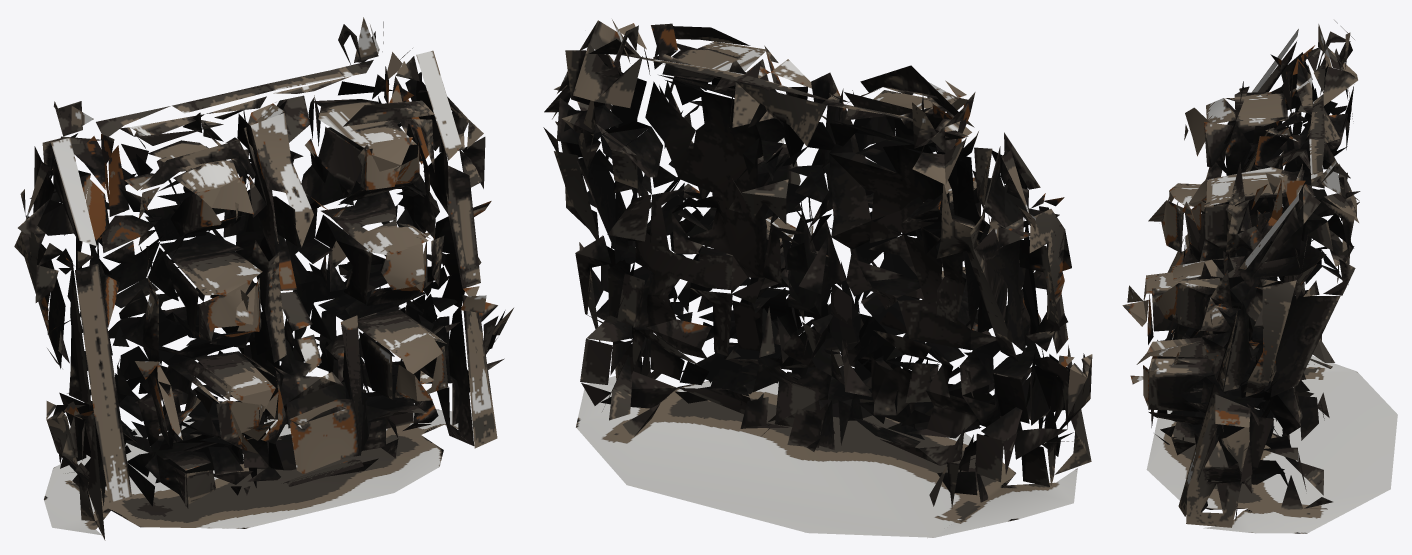
File: mo_servo.glb
The picture shows the model from 3 angles, left to right: view 1: azimuth 30°, elevation 25°; view 2: azimuth 150°, elevation 25°; view 3: azimuth 270°, elevation 25°; orthographic projection. The views are drawn at different scales.
Visible parts, largest first — view 1: mo_servo; view 2: mo_servo; view 3: mo_servo.
Boxes of the visible parts, bbox=[...] form: mo_servo: bbox=[14, 17, 513, 540]; mo_servo: bbox=[543, 19, 1092, 537]; mo_servo: bbox=[1122, 20, 1397, 533].
Bounding box in the file's own units: 0.2 × 0.1618 × 0.1123.
Materials: 1 (1 with a texture image).
